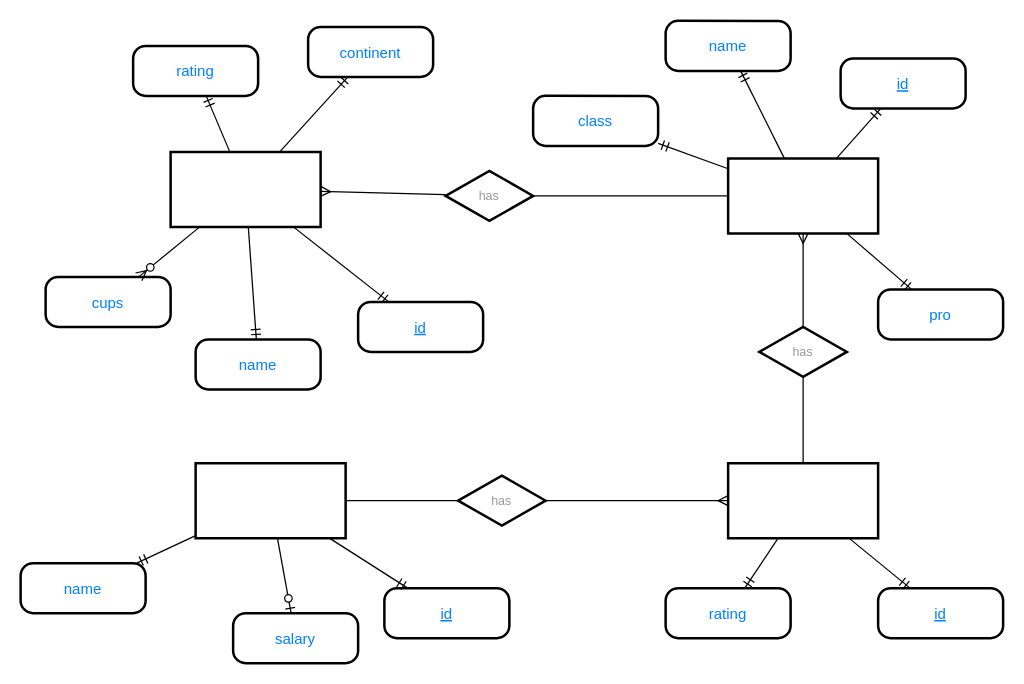
Some shapes in this 1024 by 684 pixel diagram are drawn without their labels. The centre of each missing label's shape, as x and y in pixels:
Club: point (802, 500)
League: point (802, 195)
Manager: point (270, 500)
State: point (245, 189)
